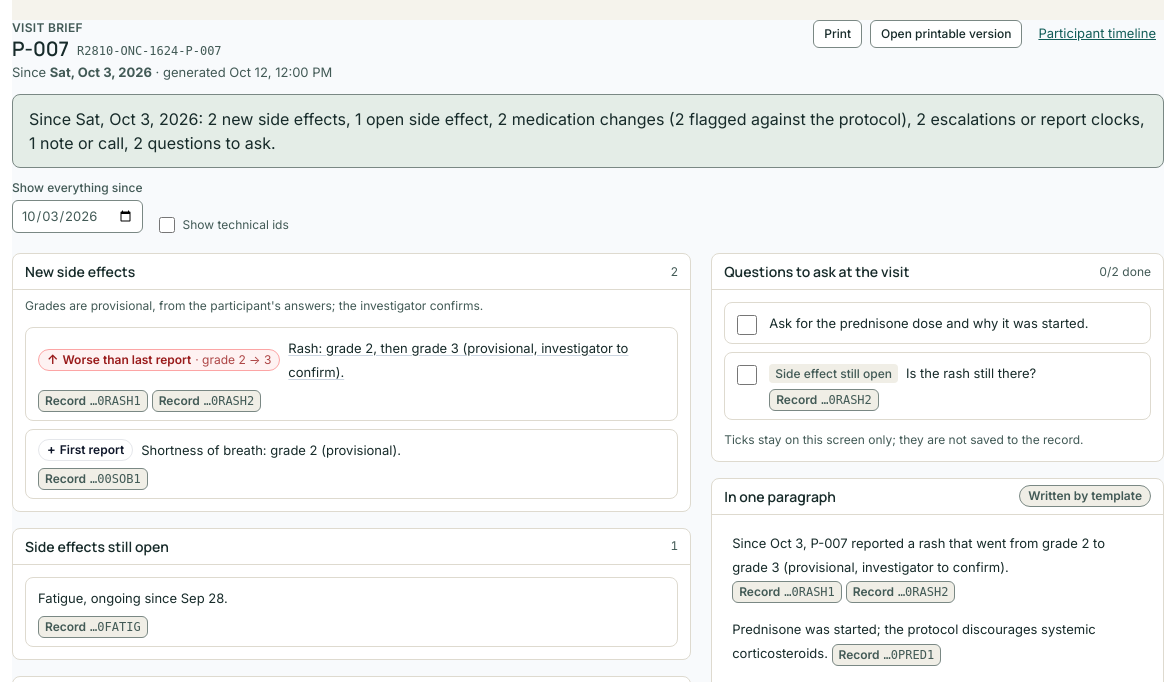
Test: BriefPage › highlights every line that cites a clicked evidence chip, and Esc clears it
Expected: the heading "P-007R2810-ONC-1624-P-007" is shown, [12,35,222,62]
Click the button "Record …0RASH2" below "Worse than last report" at (206, 401), box [152,390,261,412]
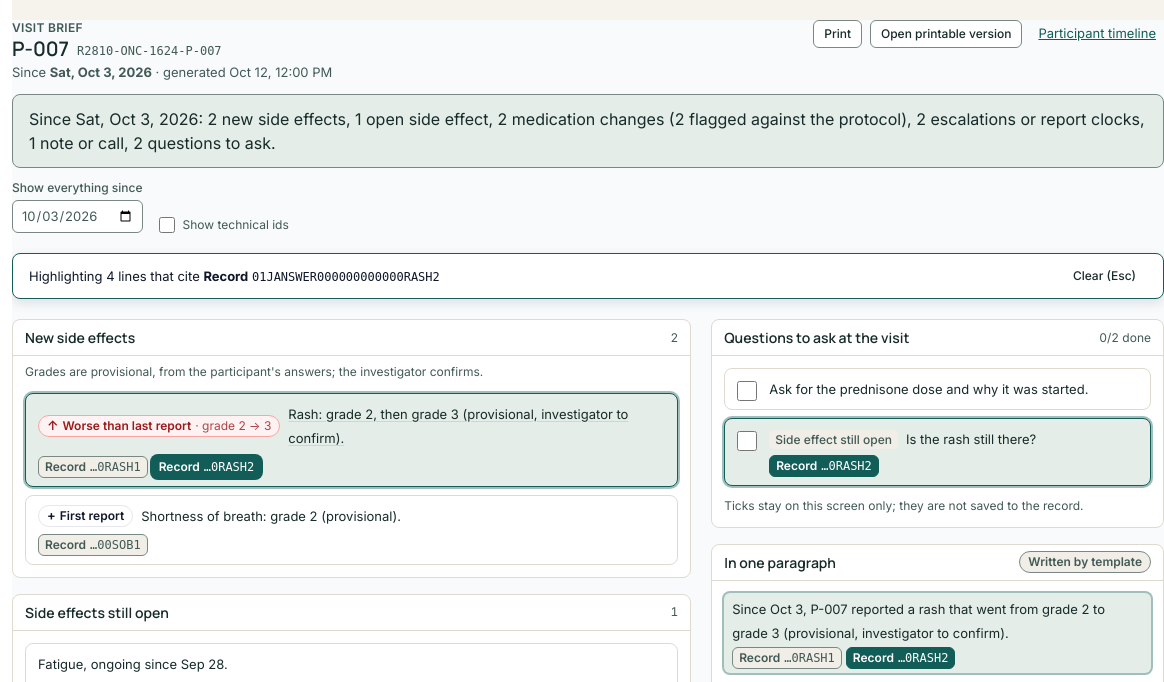
Expected: the text "Highlighting 4 lines that cite" is shown, [29,268,440,285]
Press Escape
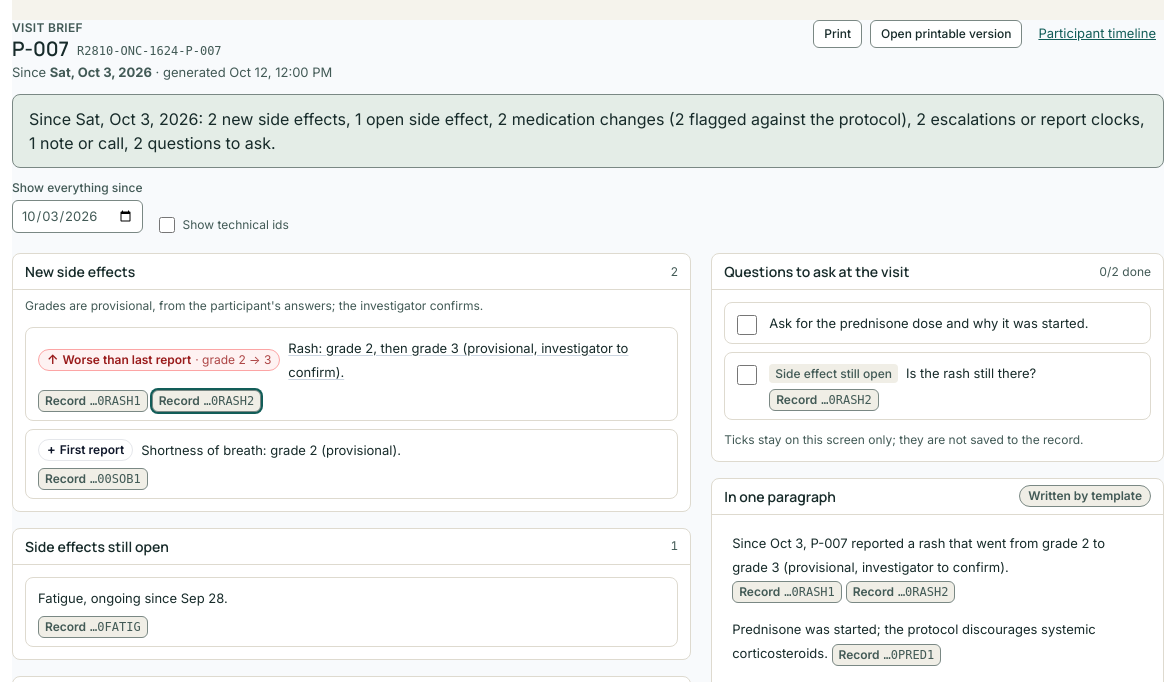
Expected: the text "Highlighting" is gone
